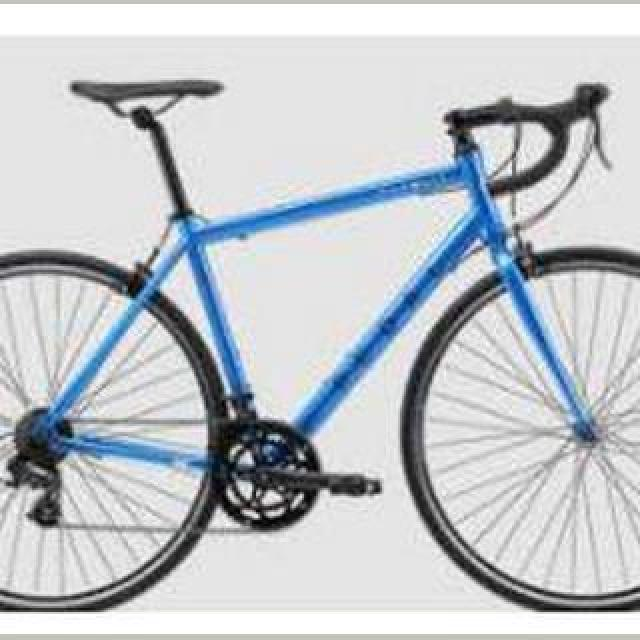Person: (4, 65, 640, 615)
